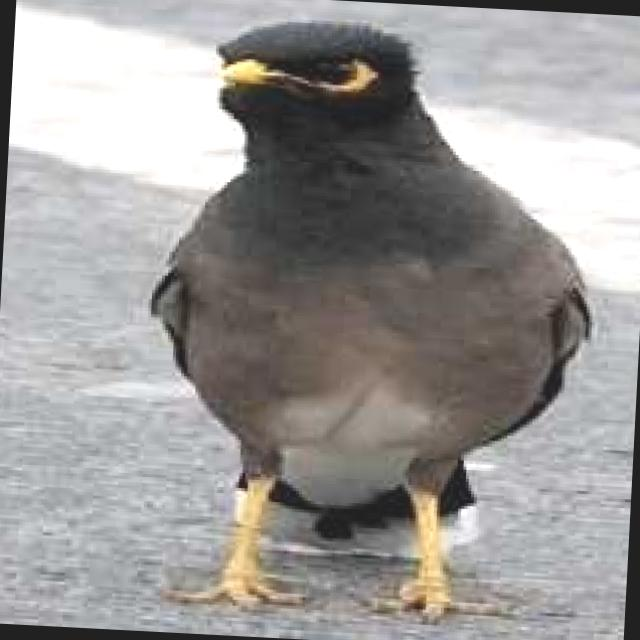bird: (126, 4, 614, 628)
